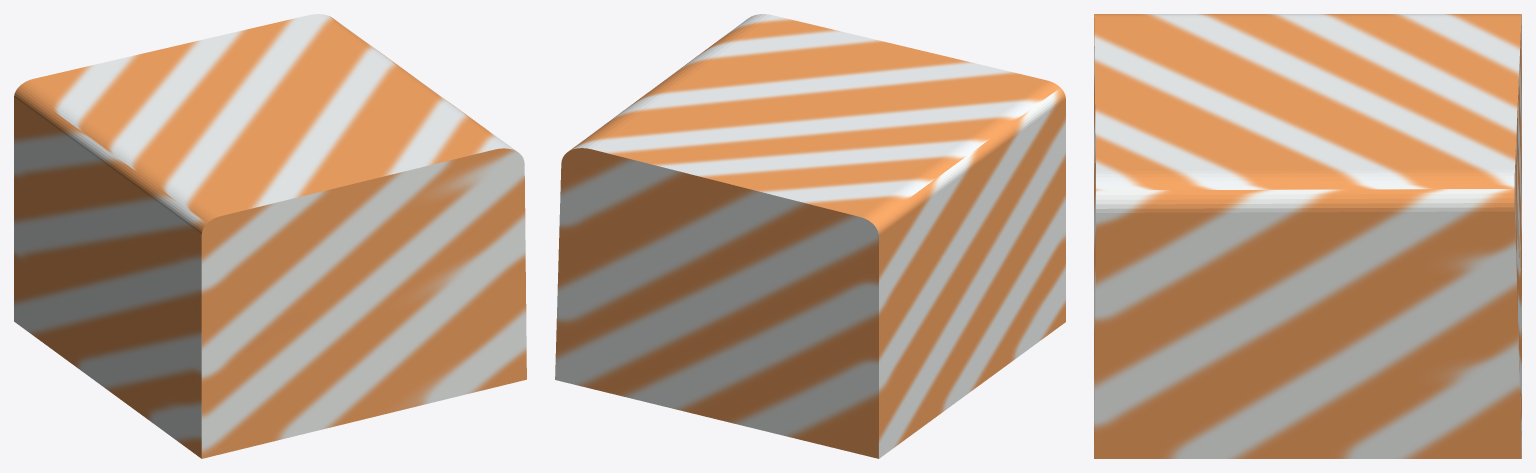
Rendered from Tune.fbx.
The picture shows the model from 3 angles, left to right: view 1: azimuth 30°, elevation 25°; view 2: azimuth 150°, elevation 25°; view 3: azimuth 270°, elevation 25°; orthographic projection. The views are drawn at different scales.
Visible parts, largest first — view 1: Cube; view 2: Cube; view 3: Cube.
Boxes of the visible parts, x1,y1,x2,y2 form: Cube: [14, 14, 526, 458]; Cube: [555, 14, 1065, 458]; Cube: [1094, 14, 1521, 458].
Bounding box in the file's own units: 2000 × 1400 × 2000.
Materials: 1 (1 with a texture image).
